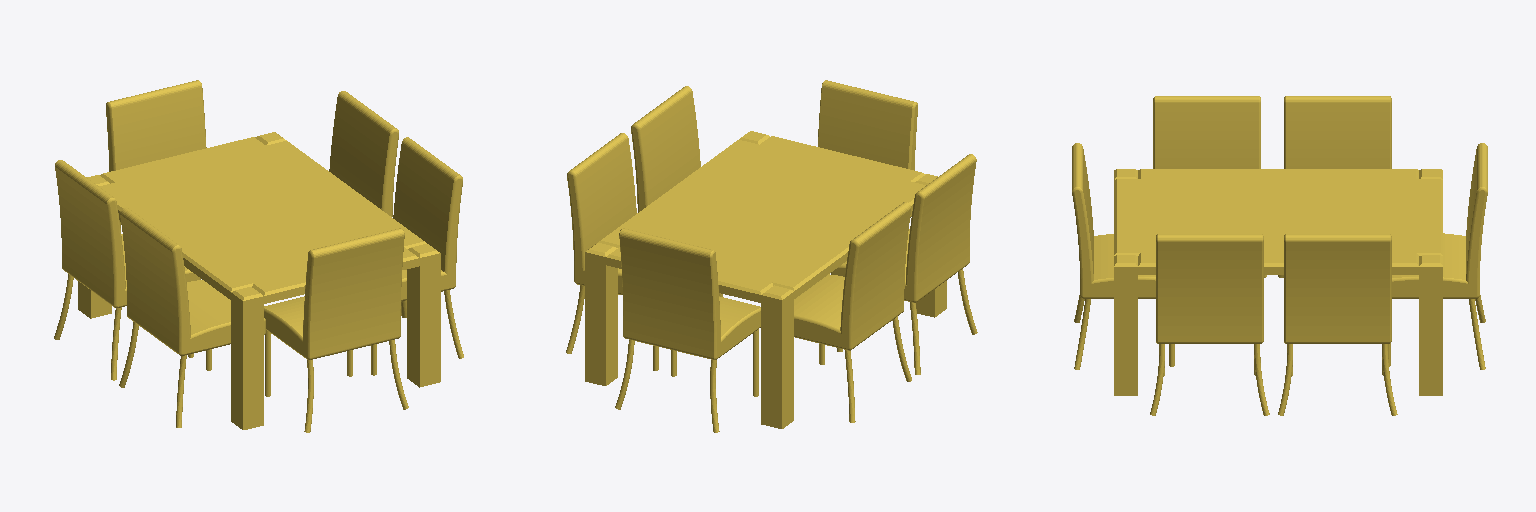
Rendered from dinner_table.obj.
The picture shows the model from 3 angles: view 1: azimuth 30°, elevation 25°; view 2: azimuth 150°, elevation 25°; view 3: azimuth 270°, elevation 25°; orthographic projection.
Parts seen in each view (by area): view 1: Layer0_001; view 2: Layer0_001; view 3: Layer0_001.
Boxes of the visible parts, x1,y1,x2,y2 form: Layer0_001: [54, 80, 463, 432]; Layer0_001: [566, 80, 977, 432]; Layer0_001: [1072, 96, 1487, 415].
Bounding box in the file's own units: 11090 × 6565 × 13660.